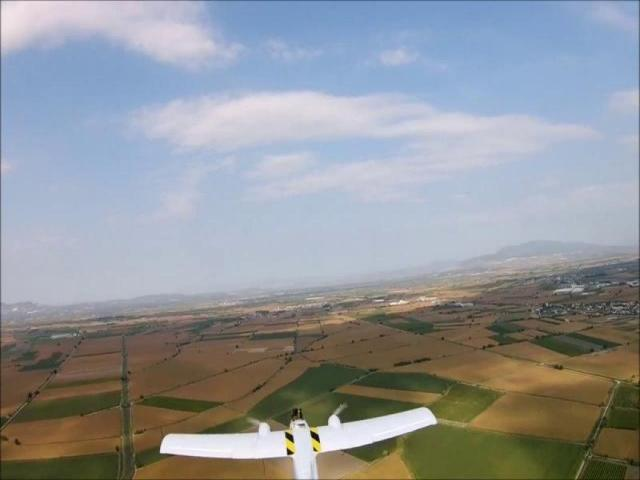hedef: (151, 397, 448, 480)
